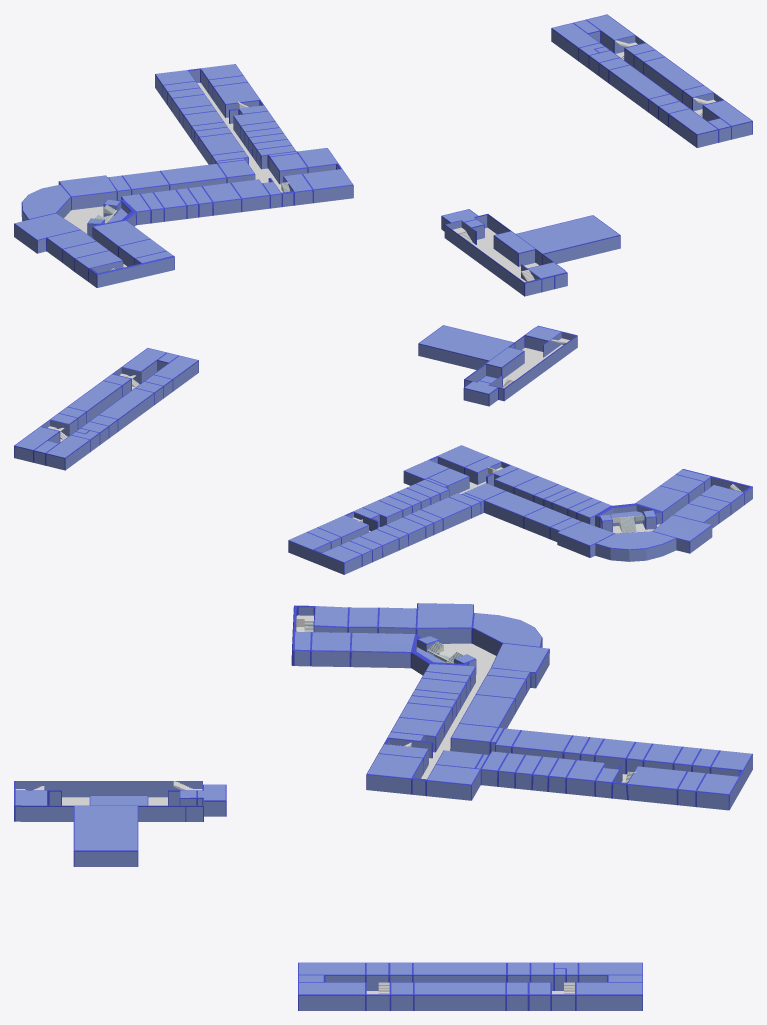
File: dstu-5.glb
3 views of the same model, one above another, from view 1: azimuth 30°, elevation 25°; view 2: azimuth 150°, elevation 25°; view 3: azimuth 270°, elevation 25° (orthographic). The views are drawn at different scales.
Visible parts, largest first — view 1: Plane.005, 5, K5; view 2: Plane.005, 5, K5; view 3: Plane.005, 5, K5.
Part boxes in pixels (x1,y1,x2,y2): Plane.005: [14, 64, 353, 287]; 5: [551, 14, 752, 147]; K5: [441, 209, 620, 296]; Plane.005: [288, 445, 752, 574]; 5: [14, 348, 198, 470]; K5: [418, 325, 577, 406]; Plane.005: [291, 603, 752, 810]; 5: [298, 962, 642, 1010]; K5: [14, 781, 226, 866].
Size of the model in its own units: 155 by 5.53 by 126.
